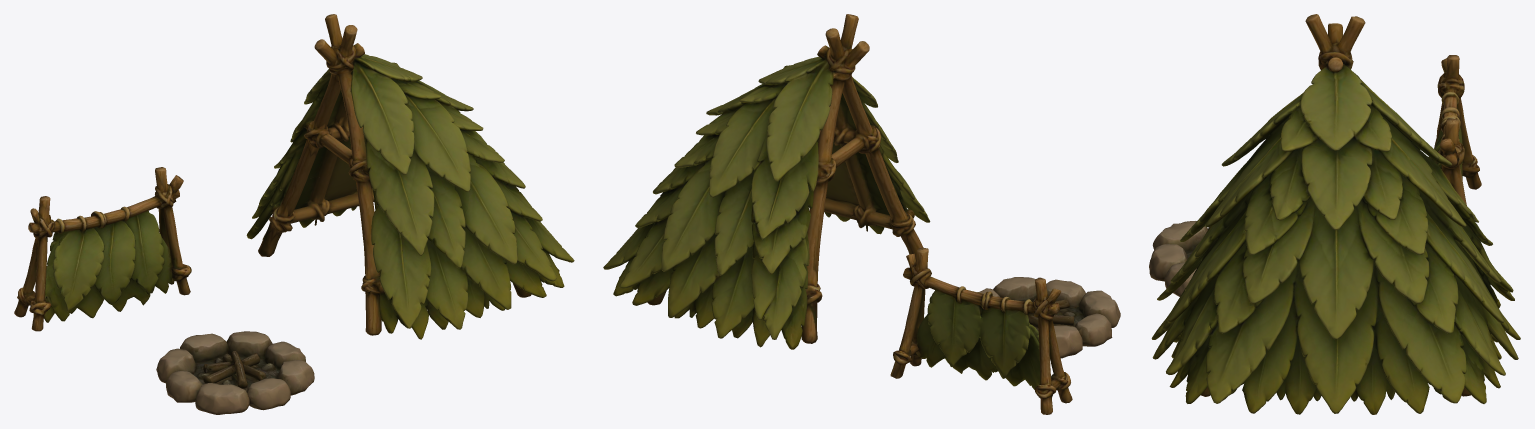
File: Band Camp (Mesoamerican).fbx
The picture shows the model from 3 angles, left to right: view 1: azimuth 30°, elevation 25°; view 2: azimuth 150°, elevation 25°; view 3: azimuth 270°, elevation 25°; orthographic projection. The views are drawn at different scales.
Visible parts, largest first — view 1: tripo_part_0, tripo_part_2, tripo_part_1, tripo_part_3; view 2: tripo_part_0, tripo_part_2, tripo_part_3, tripo_part_1; view 3: tripo_part_0, tripo_part_3, tripo_part_1.
Part boxes in pixels (x1,y1,x2,y2): tripo_part_0: (246,14,574,339); tripo_part_2: (44,211,174,322); tripo_part_1: (156,331,314,414); tripo_part_3: (14,167,191,331); tripo_part_0: (603,14,930,349); tripo_part_2: (916,290,1052,396); tripo_part_3: (890,247,1072,414); tripo_part_1: (977,277,1120,358); tripo_part_0: (1151,14,1520,414); tripo_part_3: (1434,55,1481,205); tripo_part_1: (1149,221,1210,296).
Bounding box in the file's own units: 1 × 0.6279 × 0.6169.
